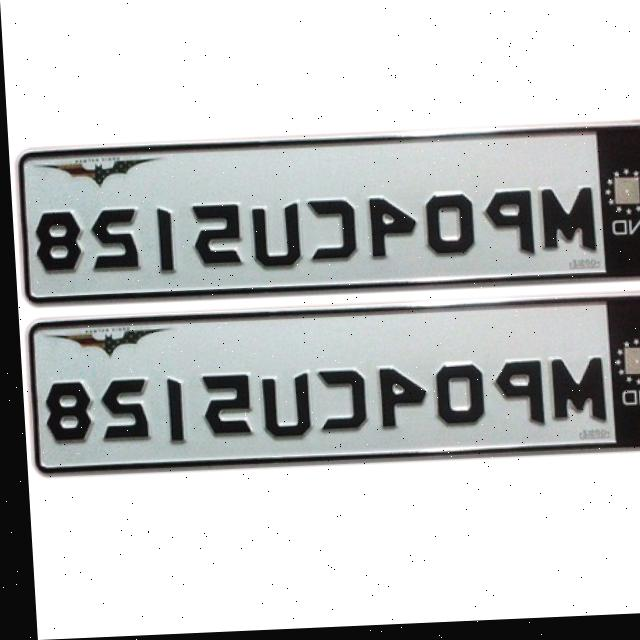plate: (22, 292, 640, 478), (17, 126, 640, 303)
